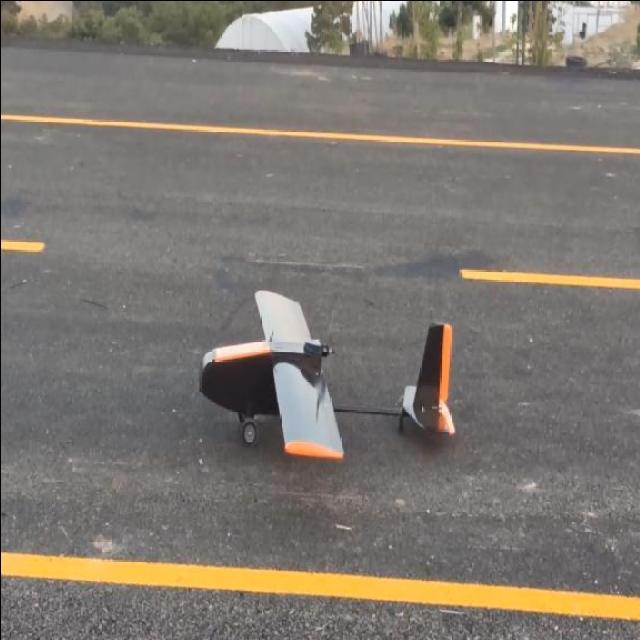plane: (195, 286, 456, 460)
